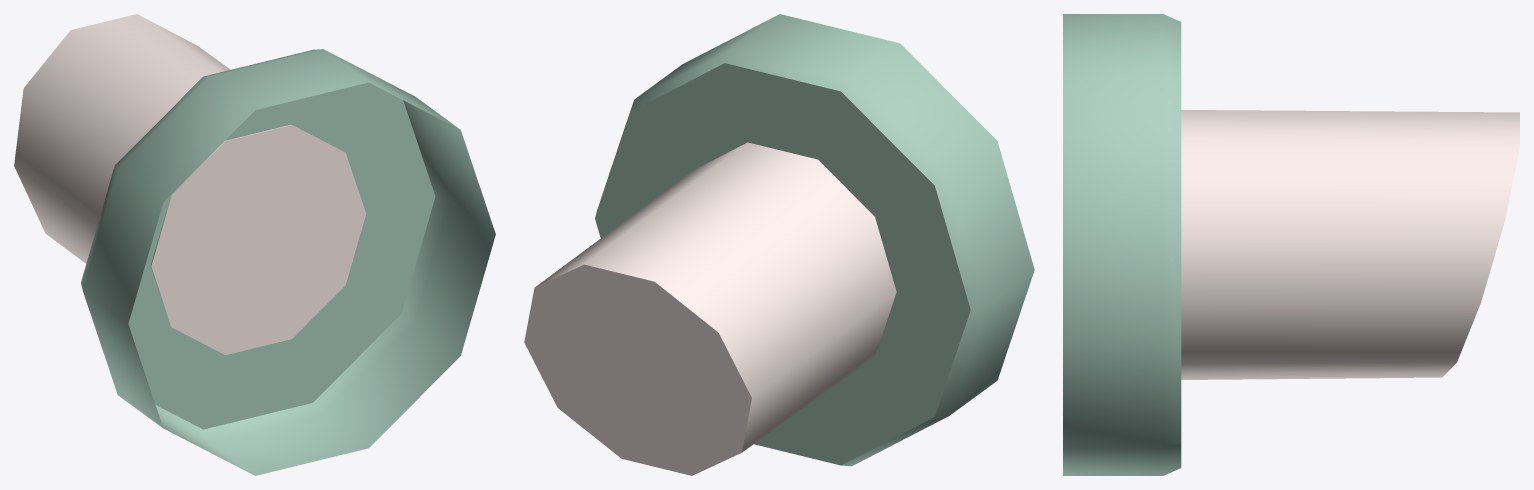
3 views of the same model, side by side, from view 1: azimuth 30°, elevation 25°; view 2: azimuth 150°, elevation 25°; view 3: azimuth 270°, elevation 25° (orthographic). The views are drawn at different scales.
Parts seen in each view (by area): view 1: Object07; view 2: Object07; view 3: Object07.
Boxes of the visible parts, x1,y1,x2,y2 form: Object07: (14, 14, 495, 475); Object07: (524, 14, 1034, 475); Object07: (1063, 14, 1519, 475).
Bounding box in the file's own units: 6658 × 6332 × 6535.
